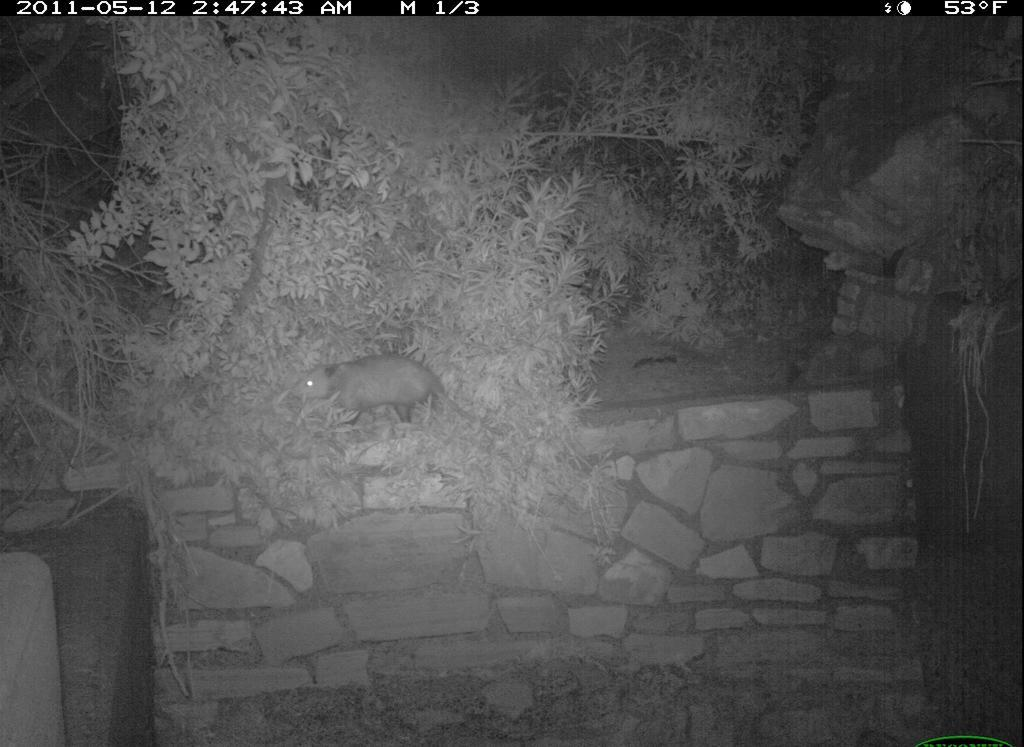opossum: (292, 350, 504, 440)
